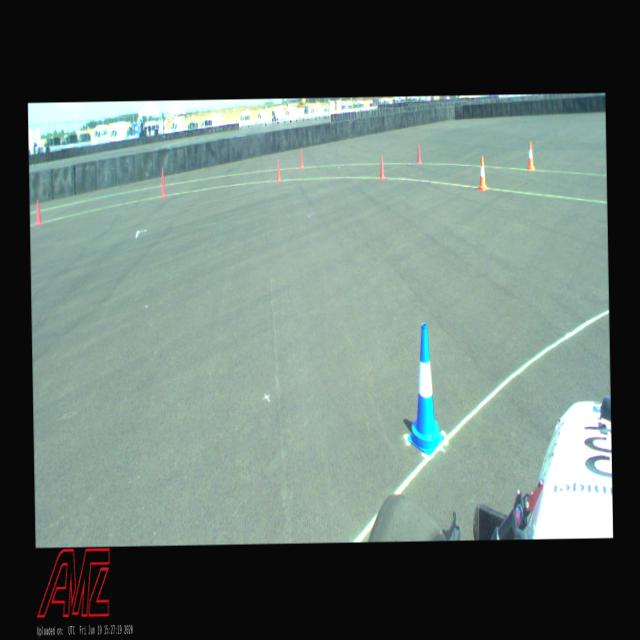blue_cone: (405, 322, 444, 456)
orange_cone: (477, 156, 487, 190), (525, 140, 535, 170)
